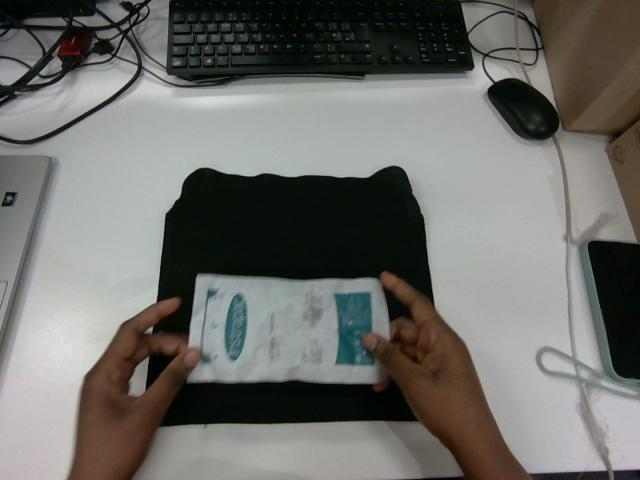gallipot: (189, 274, 388, 383)
